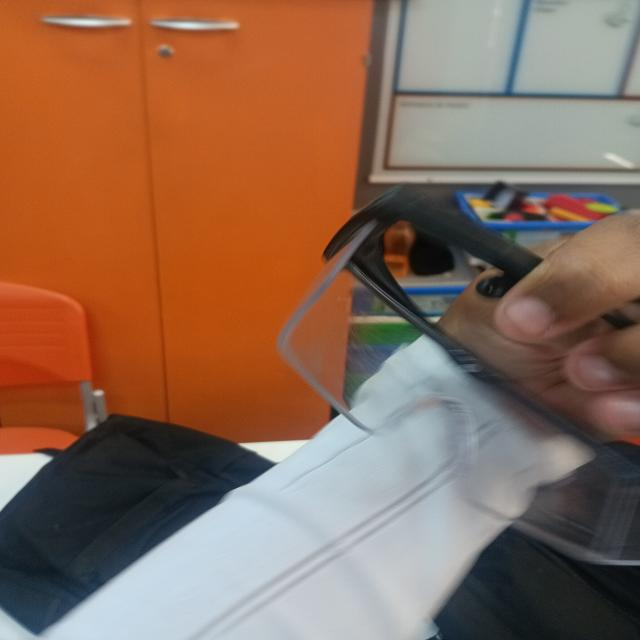oculos-epi: (274, 186, 639, 562)
